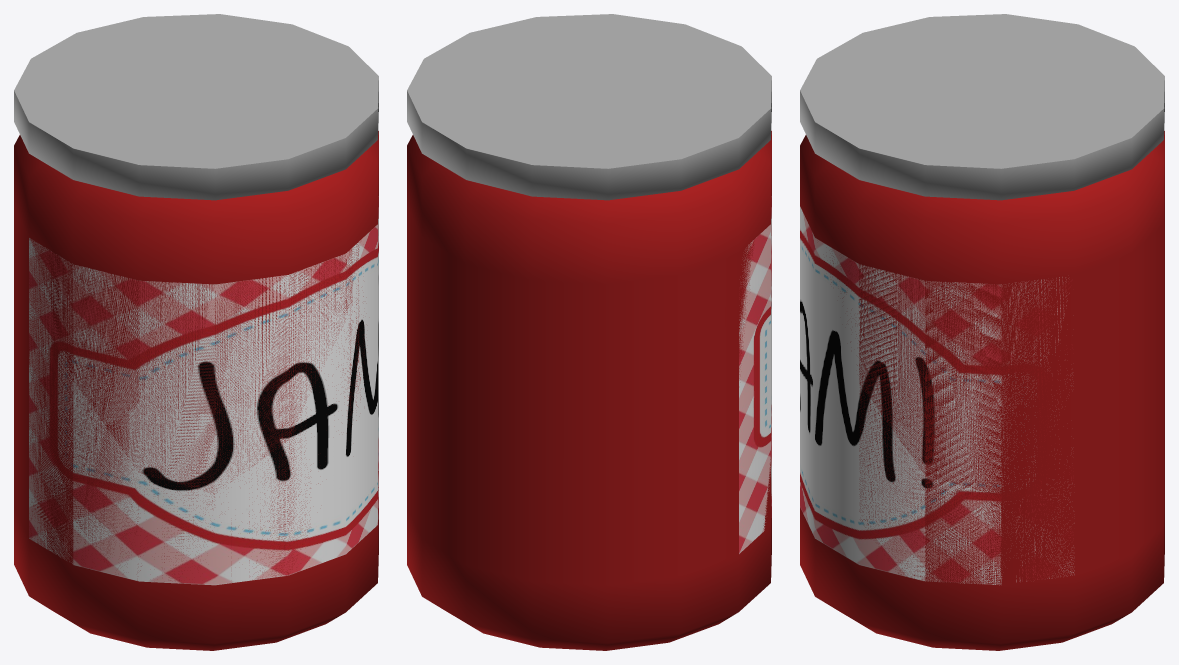
The model's file is Jam_Jar.fbx.
3 views of the same model, side by side, from view 1: azimuth 30°, elevation 25°; view 2: azimuth 150°, elevation 25°; view 3: azimuth 270°, elevation 25° (orthographic).
Visible parts, largest first — view 1: Jam Jar, Jam Lable, Lid; view 2: Jam Jar, Lid, Jam Lable; view 3: Jam Jar, Jam Lable, Lid.
Part boxes in pixels (<box>): Jam Jar: <box>14,131,378,650</box>; Jam Lable: <box>29,196,378,585</box>; Lid: <box>14,14,378,200</box>; Jam Jar: <box>407,131,771,650</box>; Lid: <box>407,14,771,200</box>; Jam Lable: <box>739,196,771,553</box>; Jam Jar: <box>800,131,1164,650</box>; Jam Lable: <box>800,206,1074,585</box>; Lid: <box>800,14,1164,200</box>.
Bounding box in the file's own units: 5.65 × 5.63 × 8.38.
